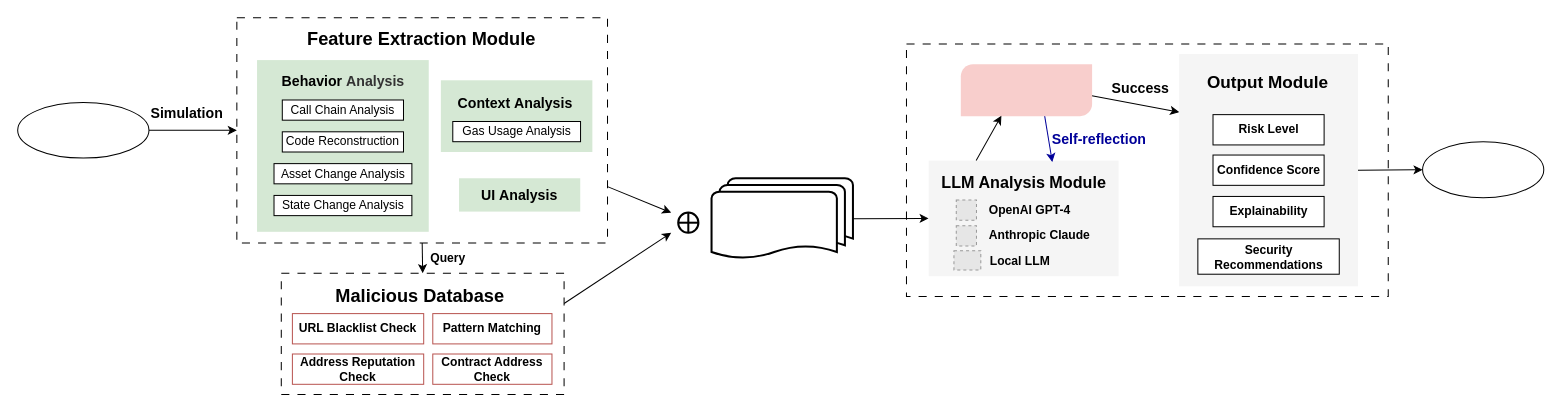
Image size: 1561x412. Some labels were removed from this diagram. Grey dashed boxes stand in for pictures. Each missing label, with the centre of its shape:
Consensus Checker: the point at 1026,90
Final Output: the point at 1483,169
Multi-Modal Feature Vector: the point at 781,218
User Action: the point at 83,130
